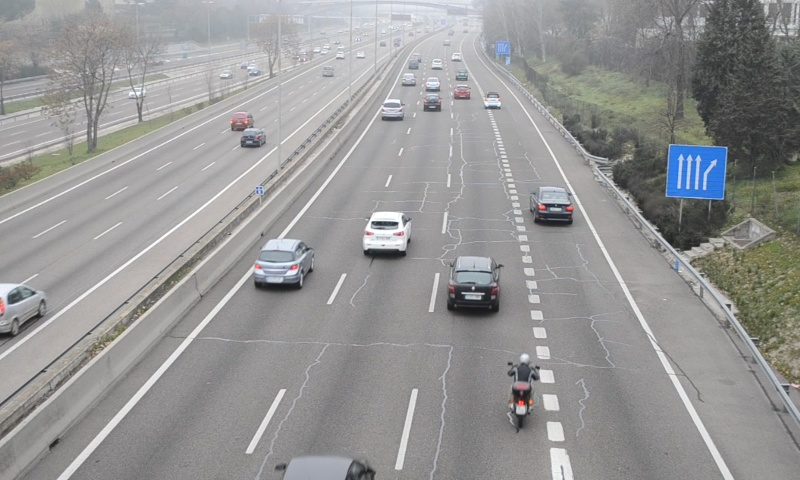car: (446, 256, 500, 311), (254, 238, 312, 288), (364, 211, 413, 253), (531, 185, 574, 224), (380, 98, 406, 121), (482, 90, 502, 109), (423, 92, 442, 111), (454, 83, 472, 100), (424, 76, 441, 92)
motorcycle: (503, 354, 543, 430)
